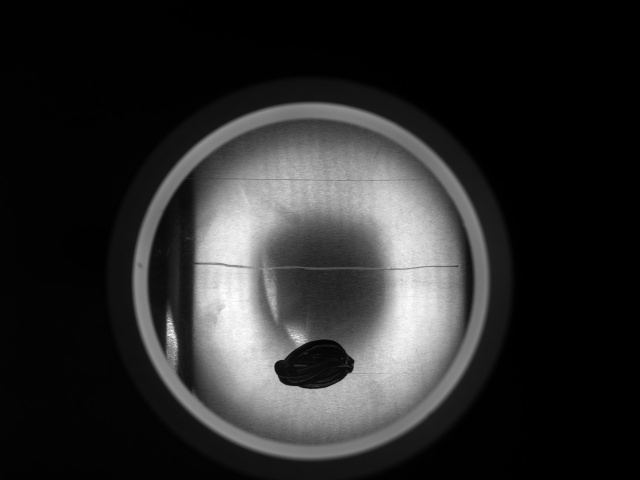ca_shang: (167, 257, 459, 271), (183, 174, 435, 185)
zang_wu: (274, 337, 357, 388)
